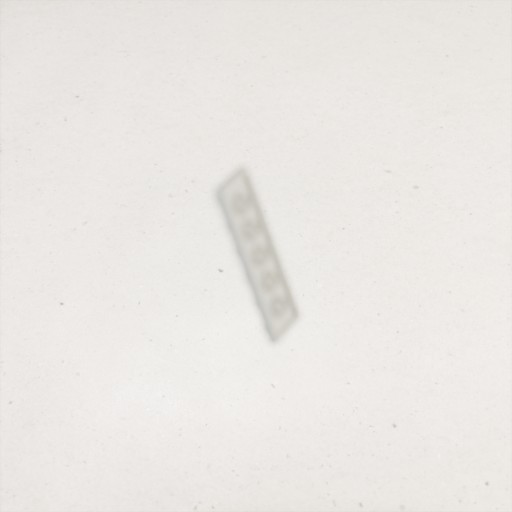lego: (212, 165, 303, 346)
